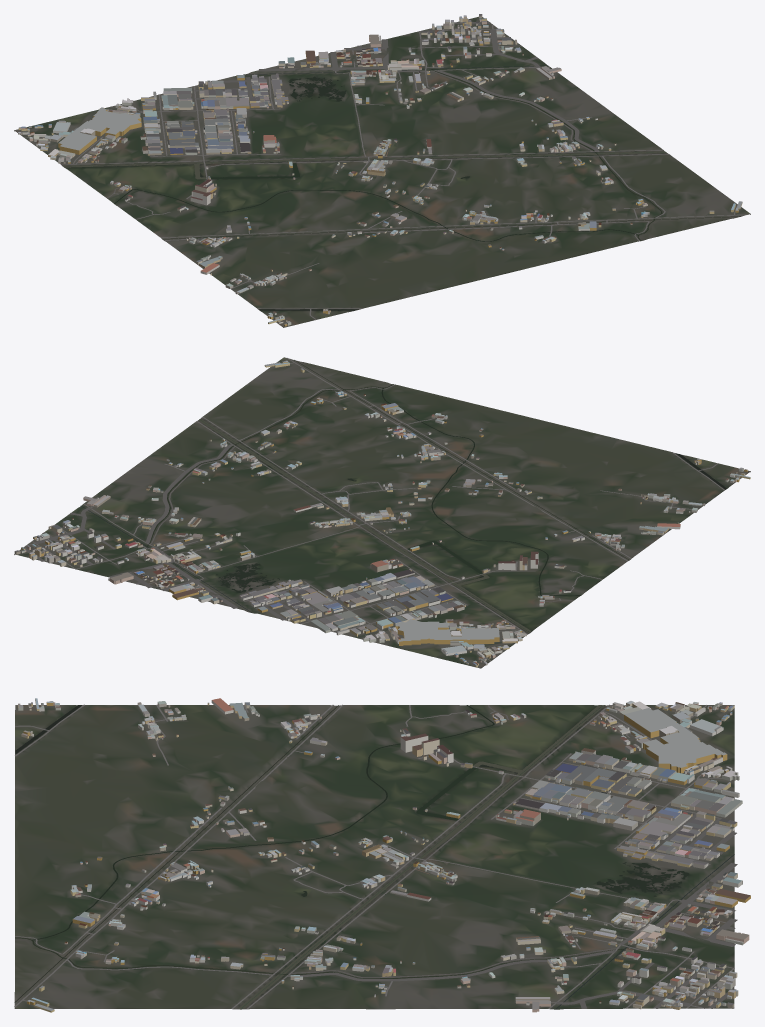
3 views of the same model, one above another, from view 1: azimuth 30°, elevation 25°; view 2: azimuth 150°, elevation 25°; view 3: azimuth 270°, elevation 25° (orthographic). The views are drawn at different scales.
Parts seen in each view (by area): view 1: ground, buildings, roads, water; view 2: ground, buildings, roads, water; view 3: ground, buildings, roads, water.
Part boxes in pixels (box(x1,y1,x2,y2)): ground: box(14, 16, 750, 327); buildings: box(18, 14, 742, 326); roads: box(24, 22, 747, 319); water: box(63, 65, 740, 310); ground: box(14, 357, 750, 668); buildings: box(14, 360, 750, 667); roads: box(23, 358, 724, 660); water: box(81, 360, 726, 632); ground: box(14, 705, 734, 1009); buildings: box(18, 698, 750, 1012); roads: box(14, 704, 737, 1008); water: box(14, 705, 734, 1008).
Bounding box in the file's own units: 1439 × 30.75 × 1434.
